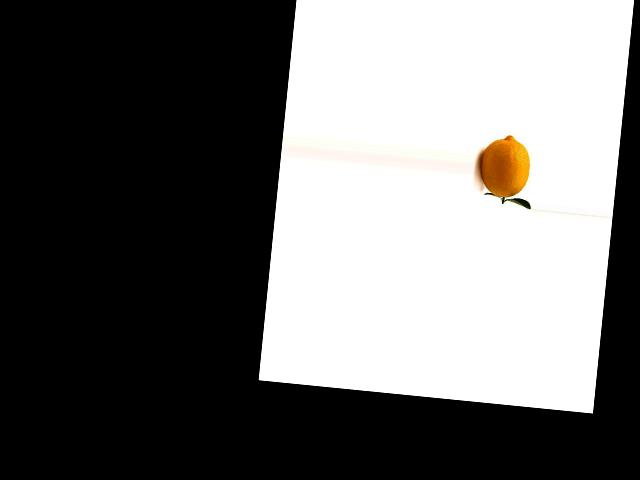lemon: (475, 128, 533, 201)
